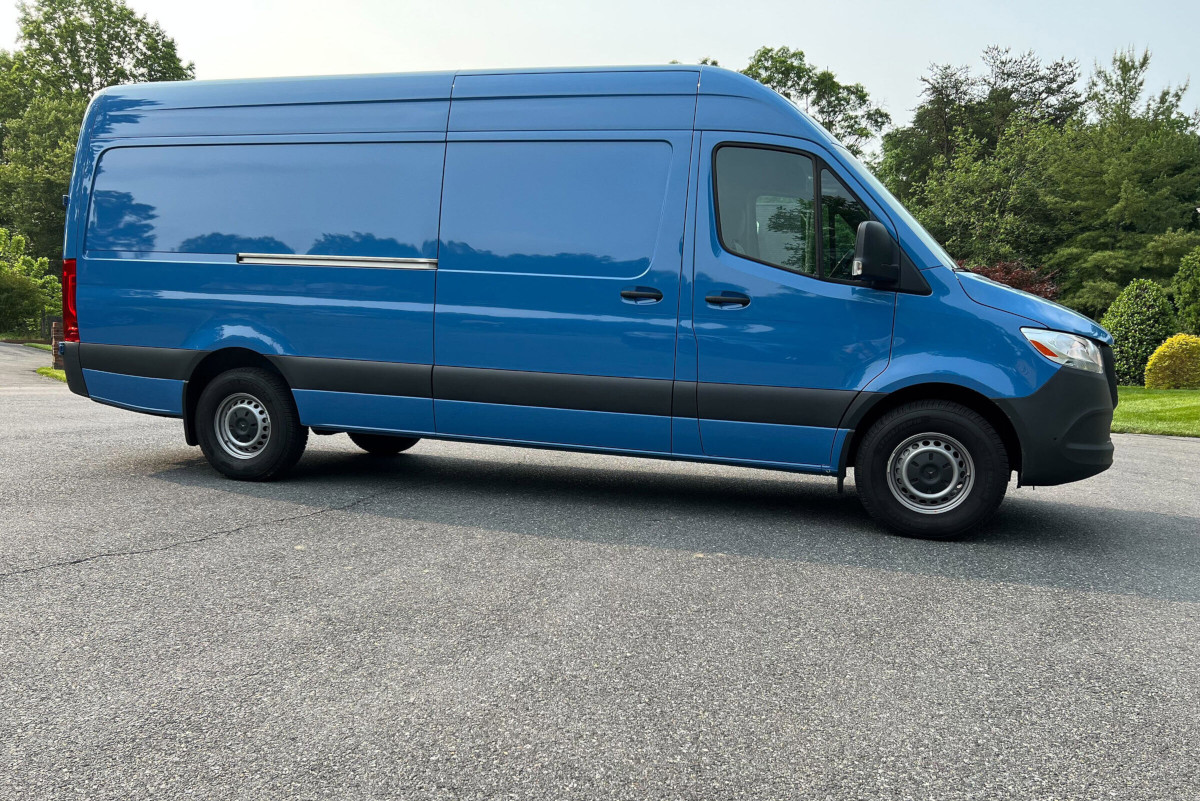van: (52, 63, 1121, 546)
